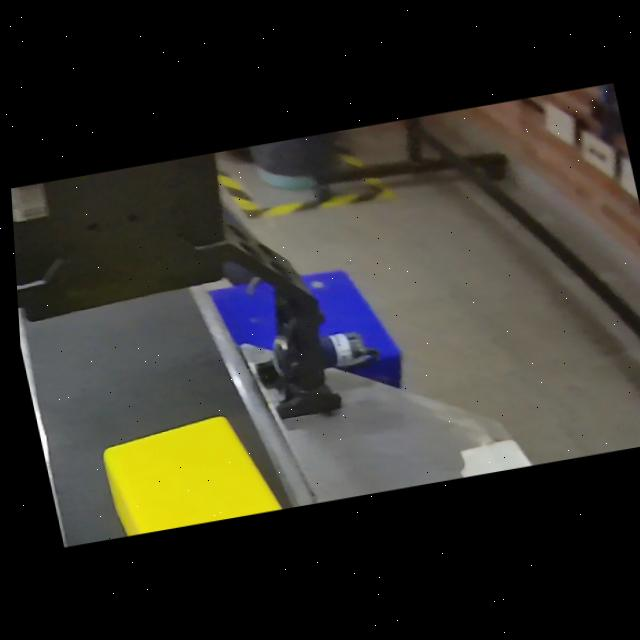yellowBox: (87, 397, 294, 538)
